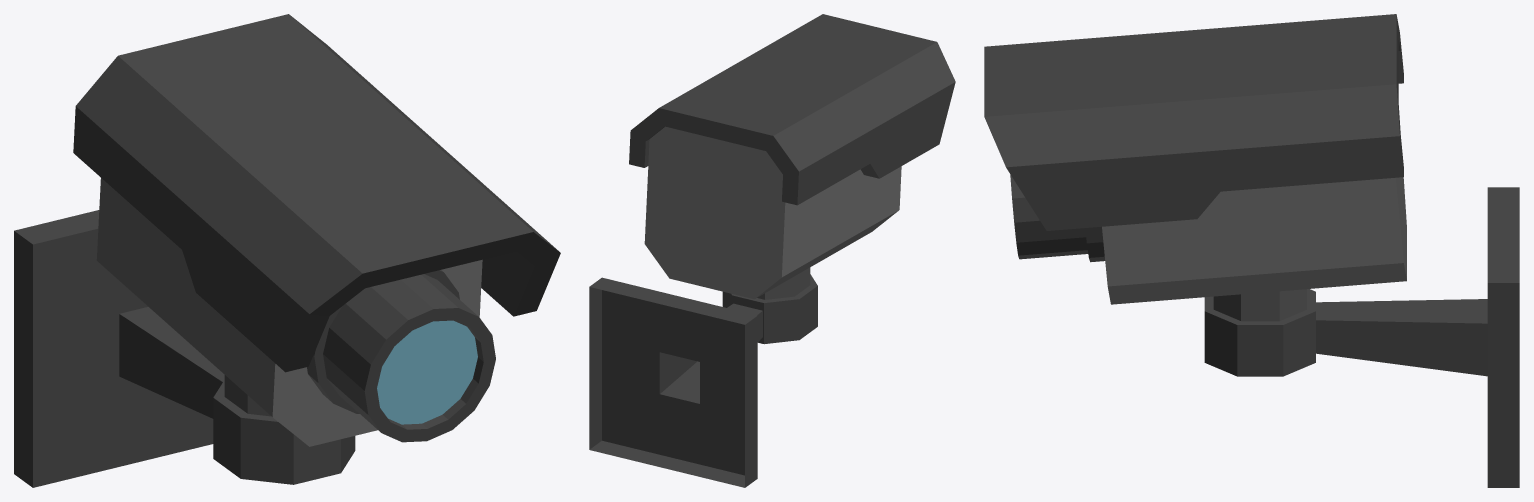
Rendered from SM_Props_Camera_01.fbx.
3 views of the same model, side by side, from view 1: azimuth 30°, elevation 25°; view 2: azimuth 150°, elevation 25°; view 3: azimuth 270°, elevation 25° (orthographic). The views are drawn at different scales.
Visible parts, largest first — view 1: SM_Props_Camera_01; view 2: SM_Props_Camera_01; view 3: SM_Props_Camera_01.
Part boxes in pixels (<box>): SM_Props_Camera_01: <box>14,14,560,487</box>; SM_Props_Camera_01: <box>589,14,955,487</box>; SM_Props_Camera_01: <box>984,14,1519,487</box>.
Size of the model in its own units: 17.21 by 30.37 by 37.68.
